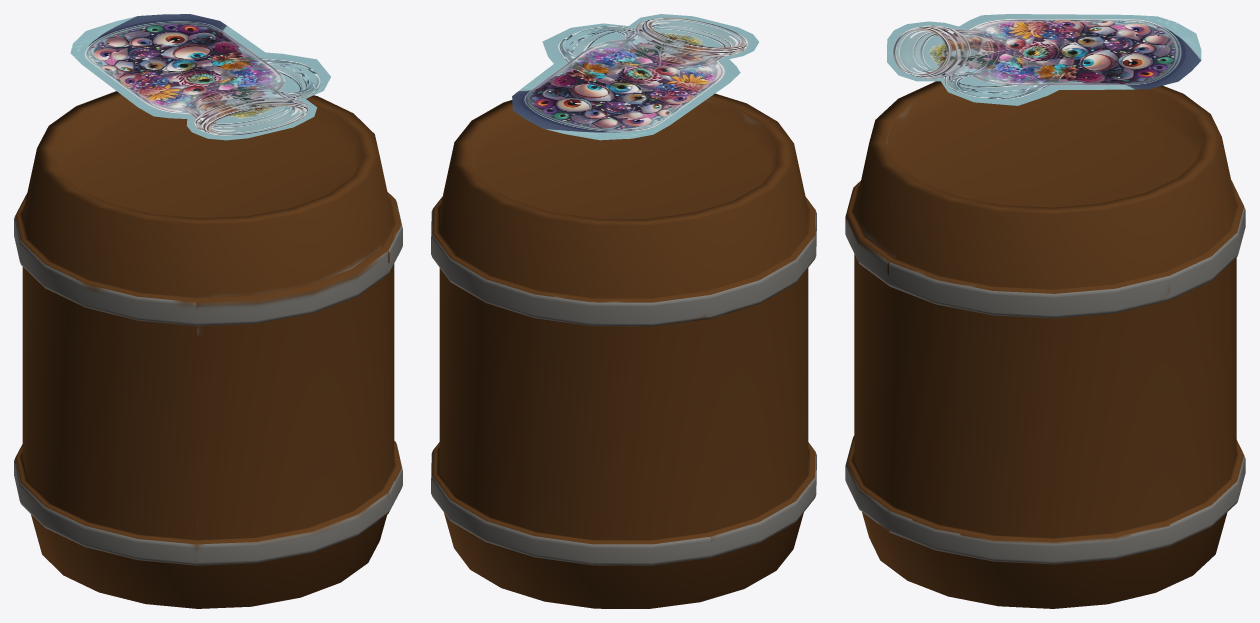
Rendered from Ingredientes_3_OjosdeBruja.fbx.
The picture shows the model from 3 angles, left to right: view 1: azimuth 30°, elevation 25°; view 2: azimuth 150°, elevation 25°; view 3: azimuth 270°, elevation 25°; orthographic projection. The views are drawn at different scales.
Parts seen in each view (by area): view 1: Barril_mesh, MK_Ingredientes_3_OjosdeBruja; view 2: Barril_mesh, MK_Ingredientes_3_OjosdeBruja; view 3: Barril_mesh, MK_Ingredientes_3_OjosdeBruja.
Part boxes in pixels (<box>): Barril_mesh: <box>14,91,402,608</box>; MK_Ingredientes_3_OjosdeBruja: <box>70,14,330,140</box>; Barril_mesh: <box>431,93,816,608</box>; MK_Ingredientes_3_OjosdeBruja: <box>512,14,758,140</box>; Barril_mesh: <box>845,81,1245,608</box>; MK_Ingredientes_3_OjosdeBruja: <box>887,14,1201,105</box>.
Bounding box in the file's own units: 1.84 × 2.42 × 1.84.
Materials: 2 (2 with a texture image).
